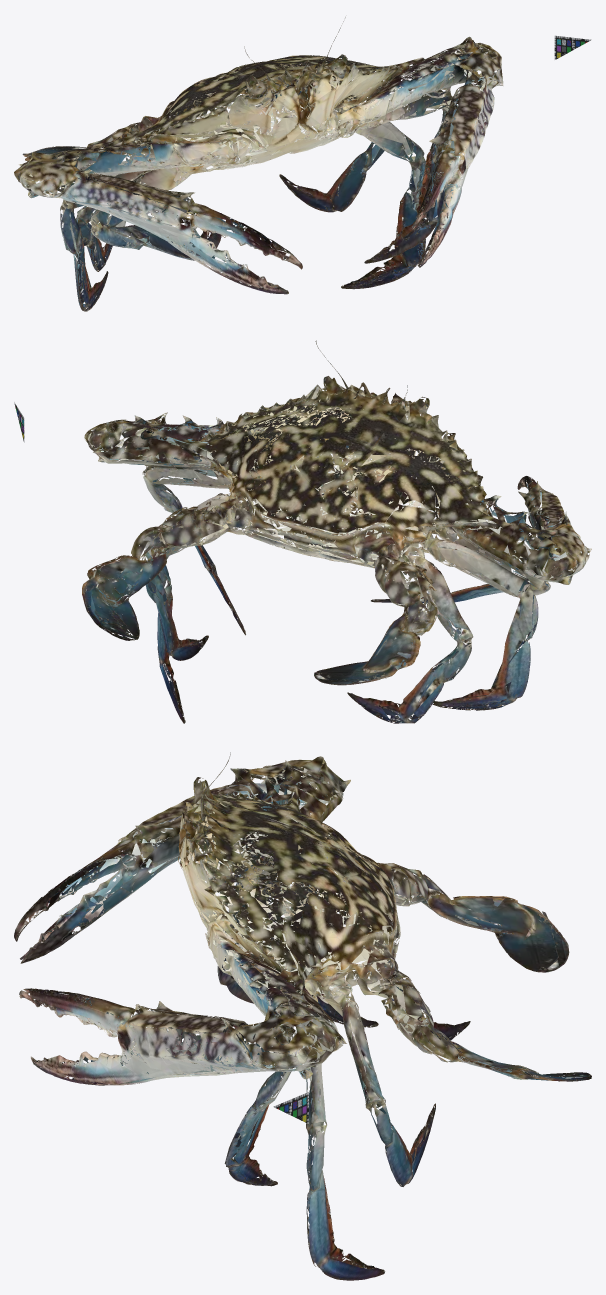
File: crab_blue.glb
3 views of the same model, one above another, from view 1: azimuth 30°, elevation 25°; view 2: azimuth 150°, elevation 25°; view 3: azimuth 270°, elevation 25° (orthographic). The views are drawn at different scales.
Visible parts, largest first — view 1: Object_11, Object_6, Object_4; view 2: Object_6, Object_11; view 3: Object_6, Object_11.
Boxes of the visible parts, <box> form: Object_11: <box>14,17,503,311</box>; Object_6: <box>19,36,503,311</box>; Object_4: <box>554,35,591,59</box>; Object_6: <box>82,368,590,723</box>; Object_11: <box>84,340,591,723</box>; Object_6: <box>16,752,591,1280</box>; Object_11: <box>14,756,590,1273</box>.
Size of the model in its own units: 12.78 by 7.36 by 8.78.
3 materials, 3 textured.
